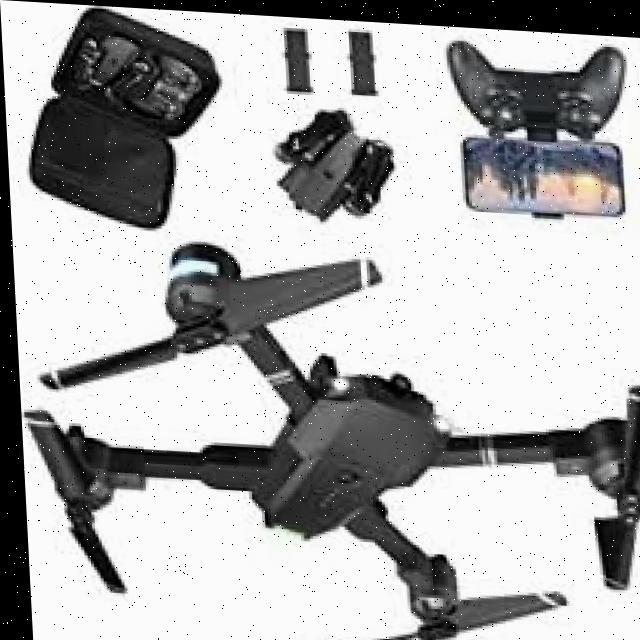drone: (9, 222, 640, 640)
